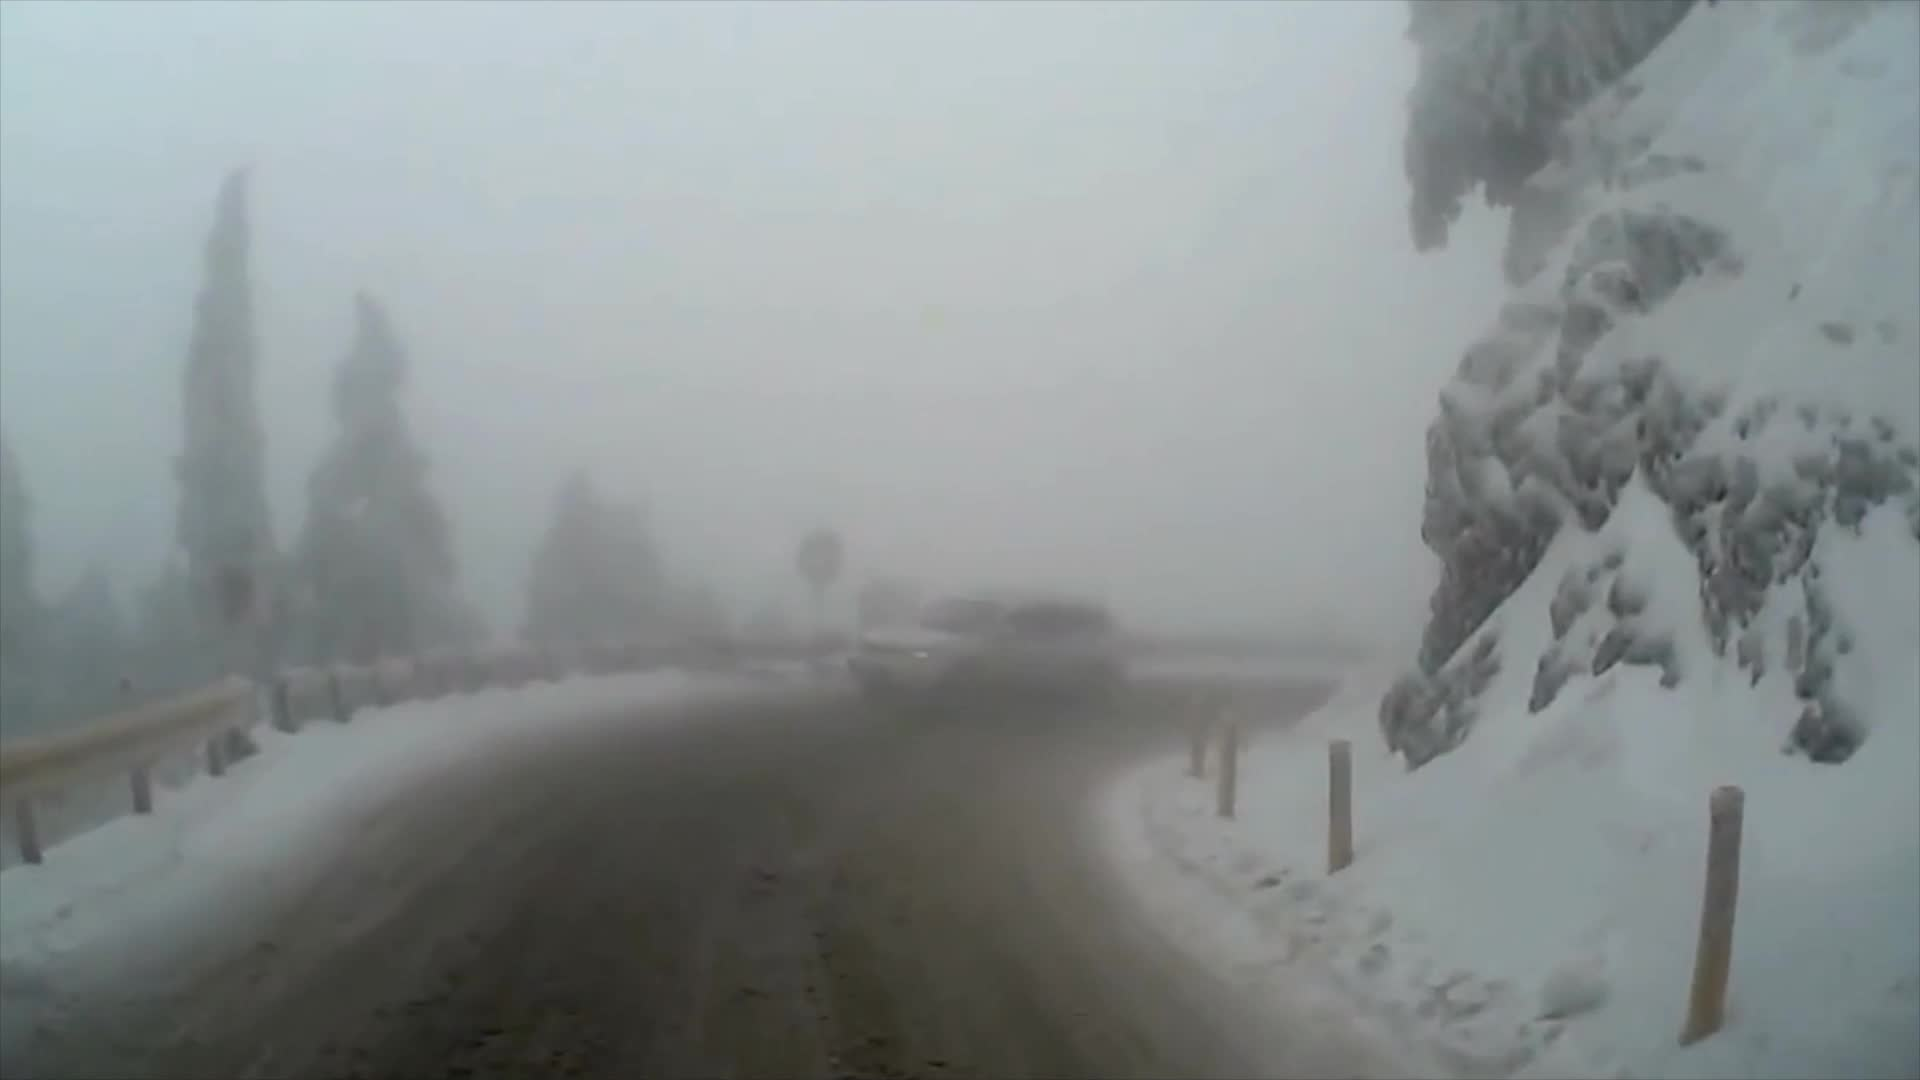vehicle: (843, 588, 1125, 723)
